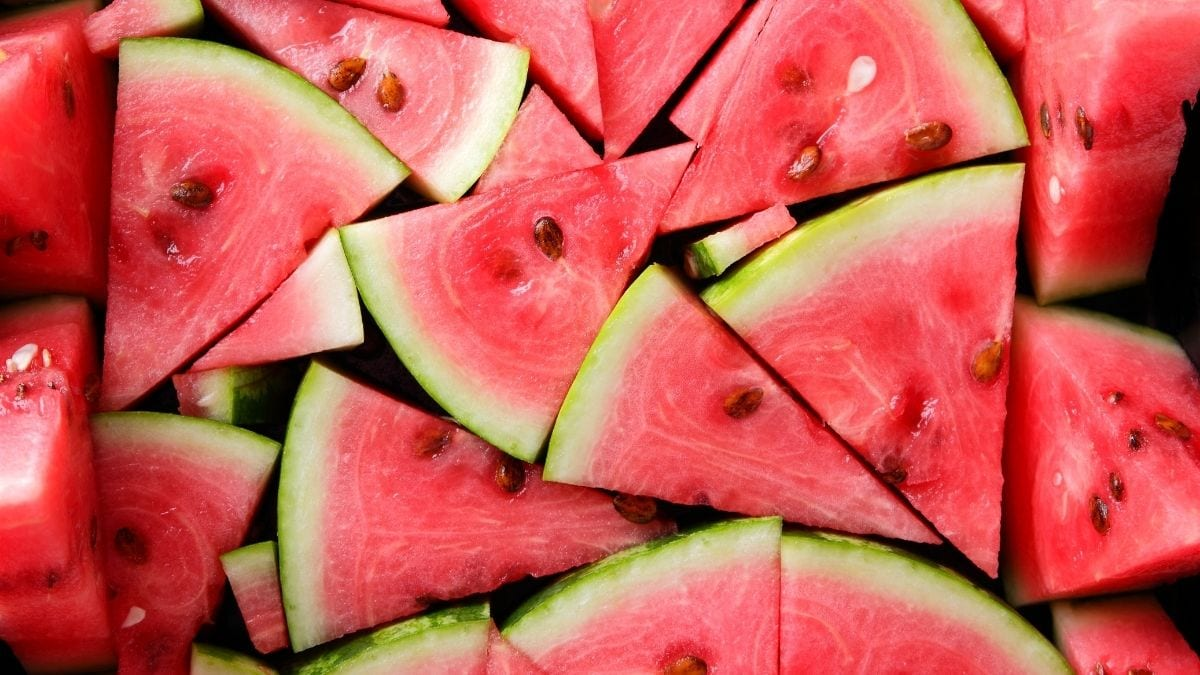Semangka: (25, 55, 394, 388), (358, 144, 697, 421), (549, 274, 863, 561), (271, 389, 594, 611)
